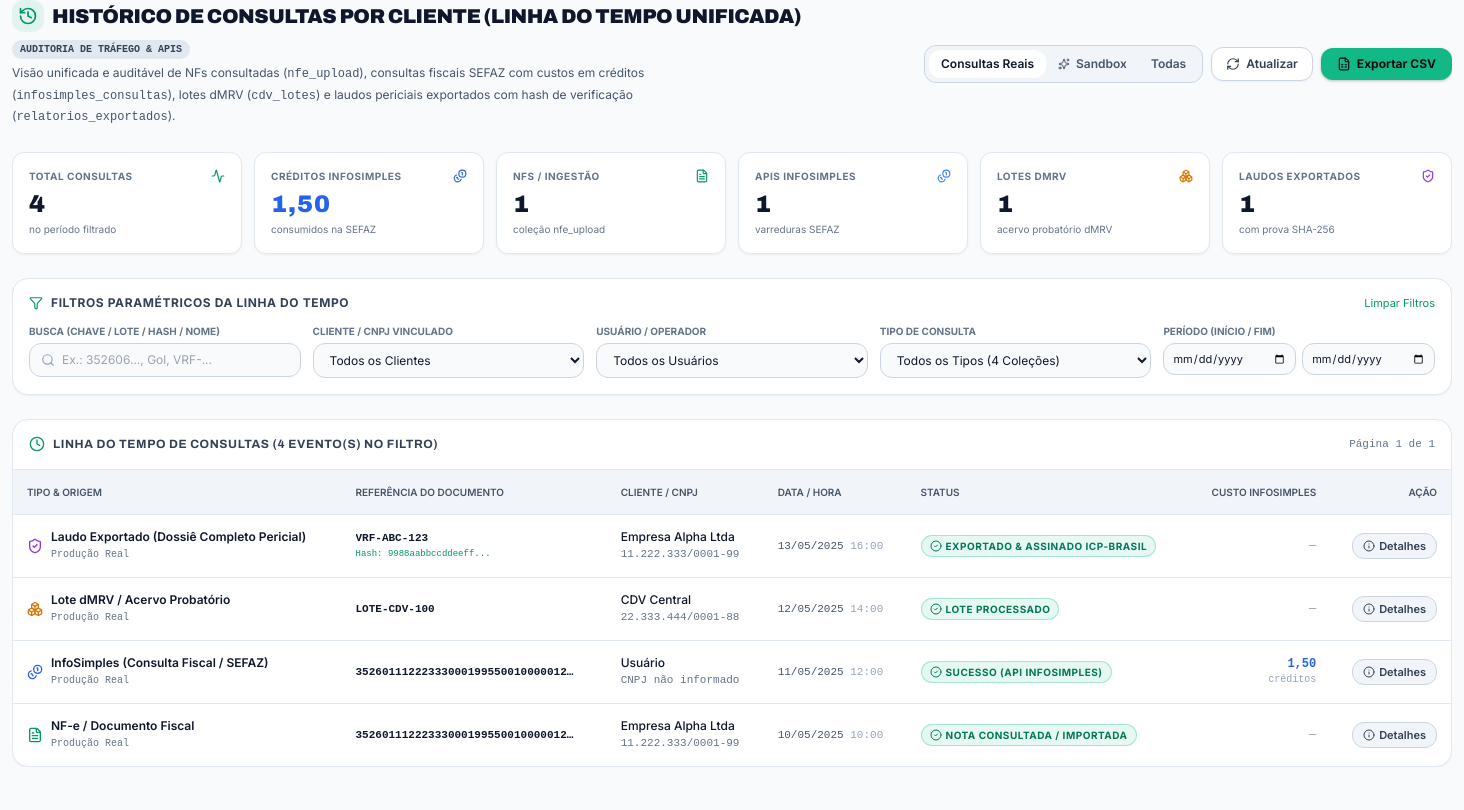
ConsoleHistoricoConsultasTab Component › permite filtrar por cliente (CNPJ) e recalcula métricas e itens da tabela
The width and height of the screenshot is (1464, 810).
Expected: the table with test id "tabela-historico-consultas" is shown, [13, 470, 1451, 766]
Select "22.333.444/0001-88 — CDV Central" in the dropdown with test id "select-filtro-cliente" at (448, 360), box [313, 343, 584, 378]
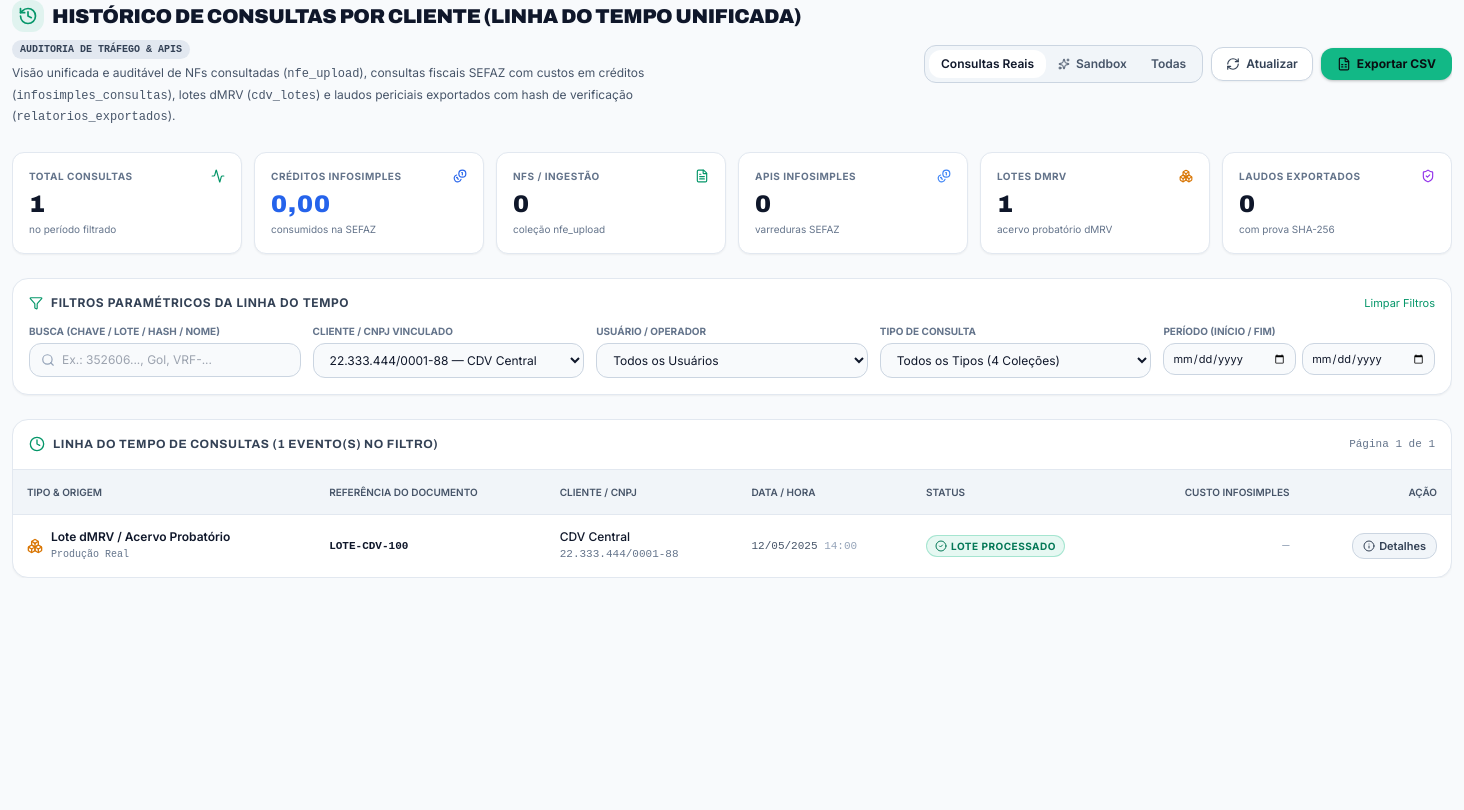
Expected: the text "LOTE-CDV-100" is shown, [329, 540, 408, 552]
Now the element with test id "card-metrica-total-consultas" shows "1", box [29, 190, 46, 216]
Now the text "VRF-ABC-123" is gone
